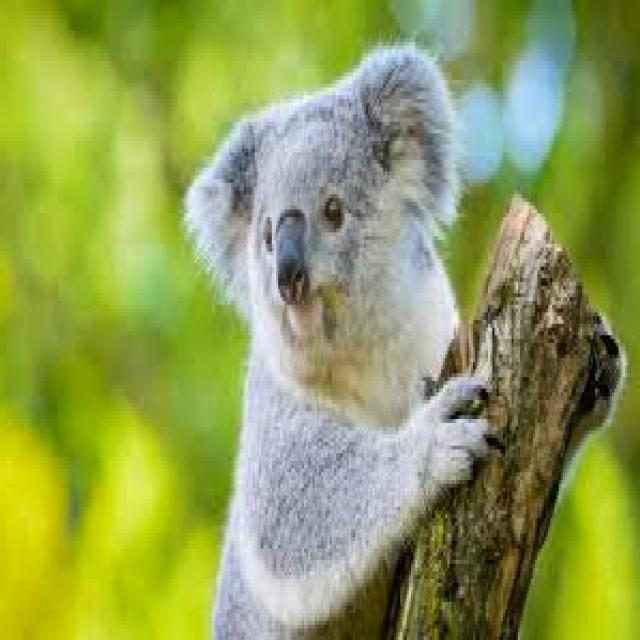koala: (191, 42, 488, 636)
